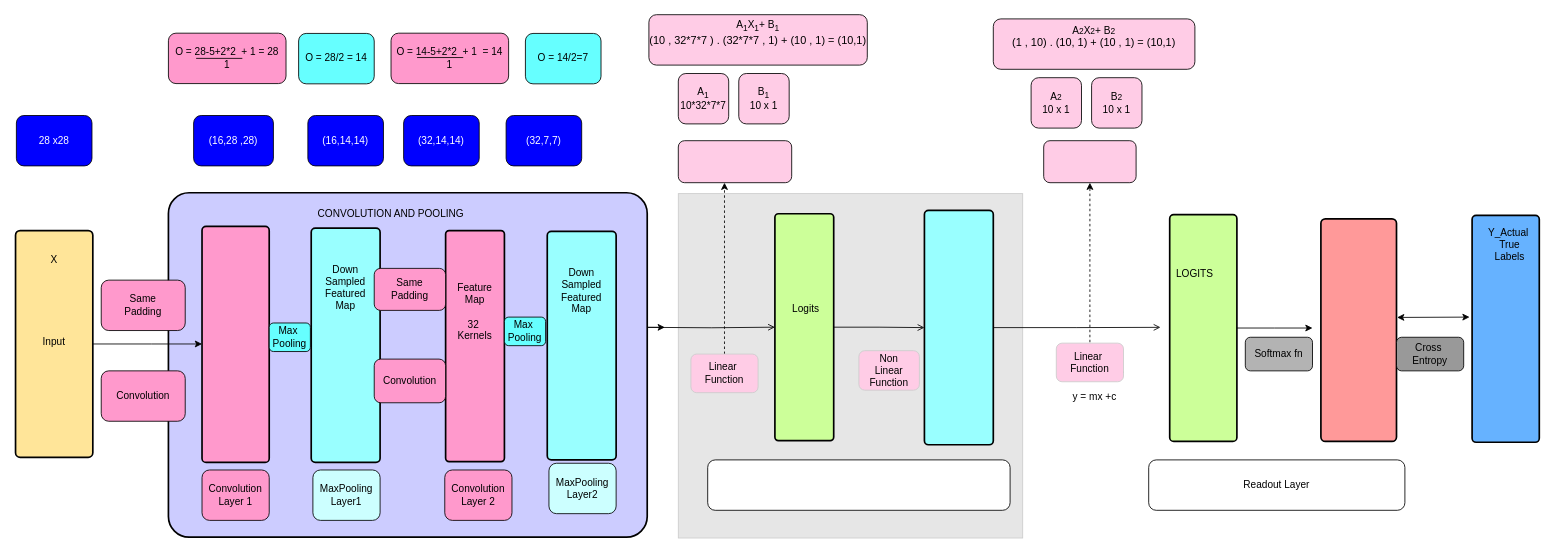
Some shapes in this 1554 by 553 pixel diagram are drawn without their labels. The box of each missing label's shape, as (x1, y1, x2, y2) in pixels:
A 1 X 1 + B 1: (677, 140, 792, 183)
A 2 X 2 + B 2: (1043, 140, 1136, 183)
Feature Map 16 Kernels: (201, 225, 270, 463)
Fully Connected Layer: (707, 459, 1010, 510)
Non Linear Output: (923, 209, 994, 445)
Softmax: (1320, 218, 1397, 442)
